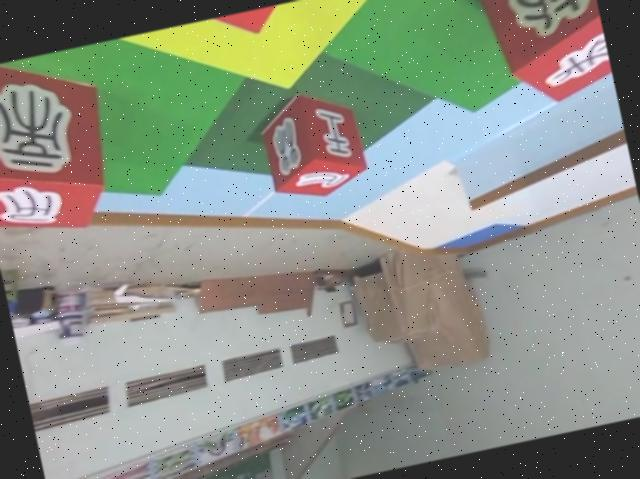R2 Fake: (0, 44, 125, 253), (463, 0, 616, 125), (254, 82, 374, 207)
